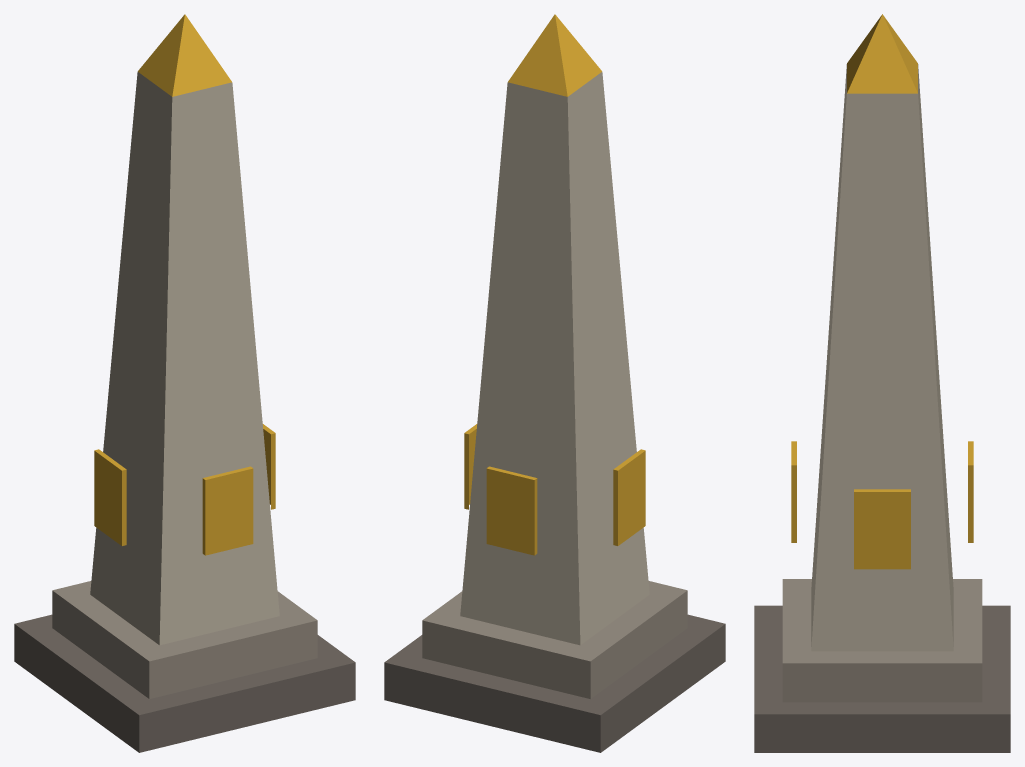
Rendered from statue_obelisk.fbx.
3 views of the same model, side by side, from view 1: azimuth 30°, elevation 25°; view 2: azimuth 150°, elevation 25°; view 3: azimuth 270°, elevation 25° (orthographic). The views are drawn at different scales.
Visible parts, largest first — view 1: statue_obelisk; view 2: statue_obelisk; view 3: statue_obelisk.
Part boxes in pixels (bbox=[...]): statue_obelisk: bbox=[14, 14, 355, 752]; statue_obelisk: bbox=[384, 14, 725, 752]; statue_obelisk: bbox=[754, 14, 1010, 752].
Bounding box in the file's own units: 1.8 × 5.3 × 1.8.
